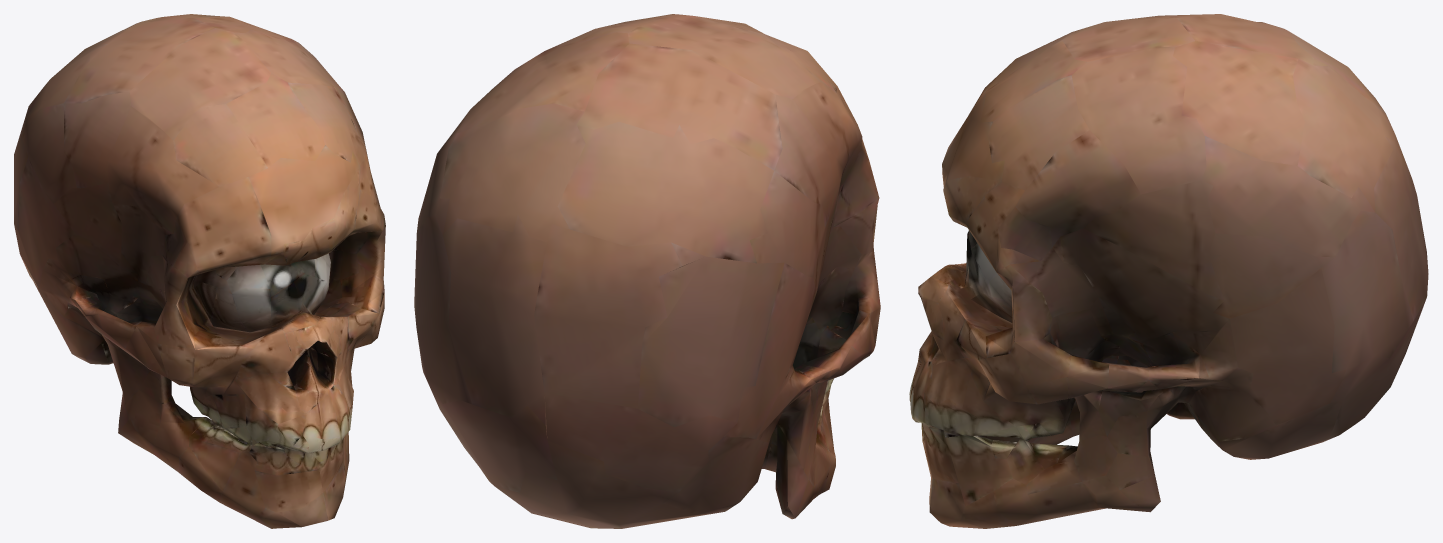
File: monster_56.glb
3 views of the same model, side by side, from view 1: azimuth 30°, elevation 25°; view 2: azimuth 150°, elevation 25°; view 3: azimuth 270°, elevation 25° (orthographic). The views are drawn at different scales.
Parts seen in each view (by area): view 1: Phase head; view 2: Phase head; view 3: Phase head.
Boxes of the visible parts, x1=… form: Phase head: x1=14, y1=14, x2=385, y2=528; Phase head: x1=414, y1=14, x2=880, y2=528; Phase head: x1=909, y1=14, x2=1428, y2=528.
Bounding box in the file's own units: 1.34 × 1.9 × 1.86.
Materials: 1 (1 with a texture image).
